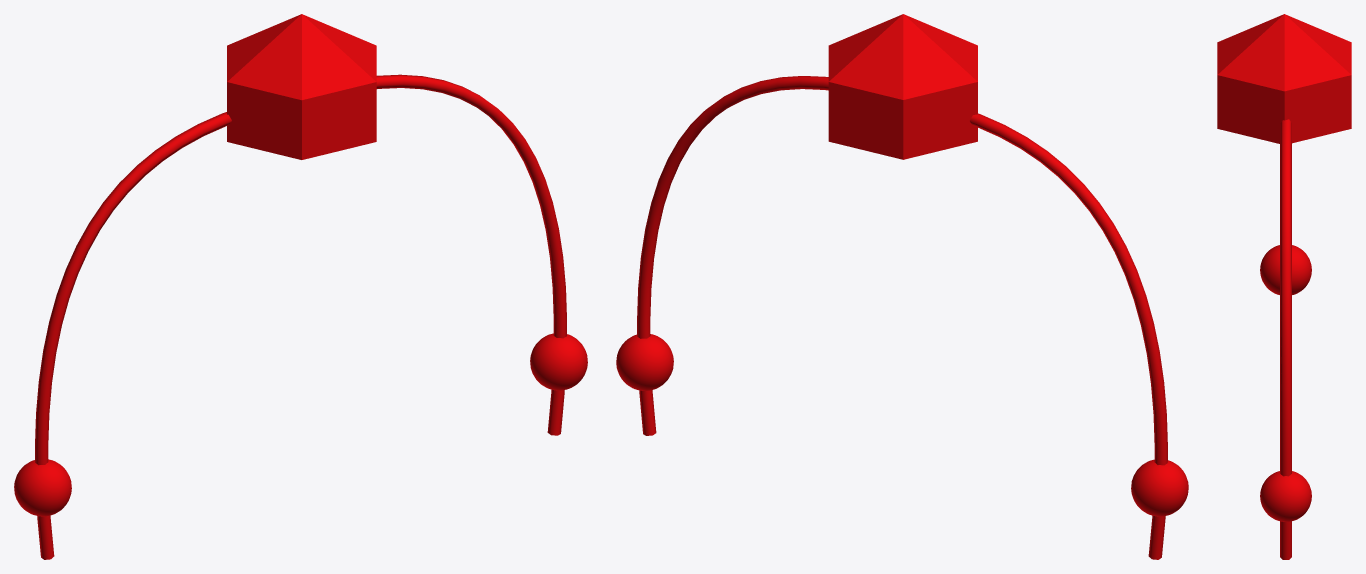
File: momiji_hat.glb
3 renders of one model, left to right at view 1: azimuth 30°, elevation 25°; view 2: azimuth 150°, elevation 25°; view 3: azimuth 270°, elevation 25°, orthographic. The views are drawn at different scales.
Parts seen in each view (by area): view 1: Hat; view 2: Hat; view 3: Hat.
Part boxes in pixels (box(x1,y1,x2,y2)): Hat: box(14, 14, 587, 559); Hat: box(616, 14, 1188, 559); Hat: box(1217, 14, 1351, 559).
Size of the model in its own units: 1.95 by 1.59 by 0.447.
